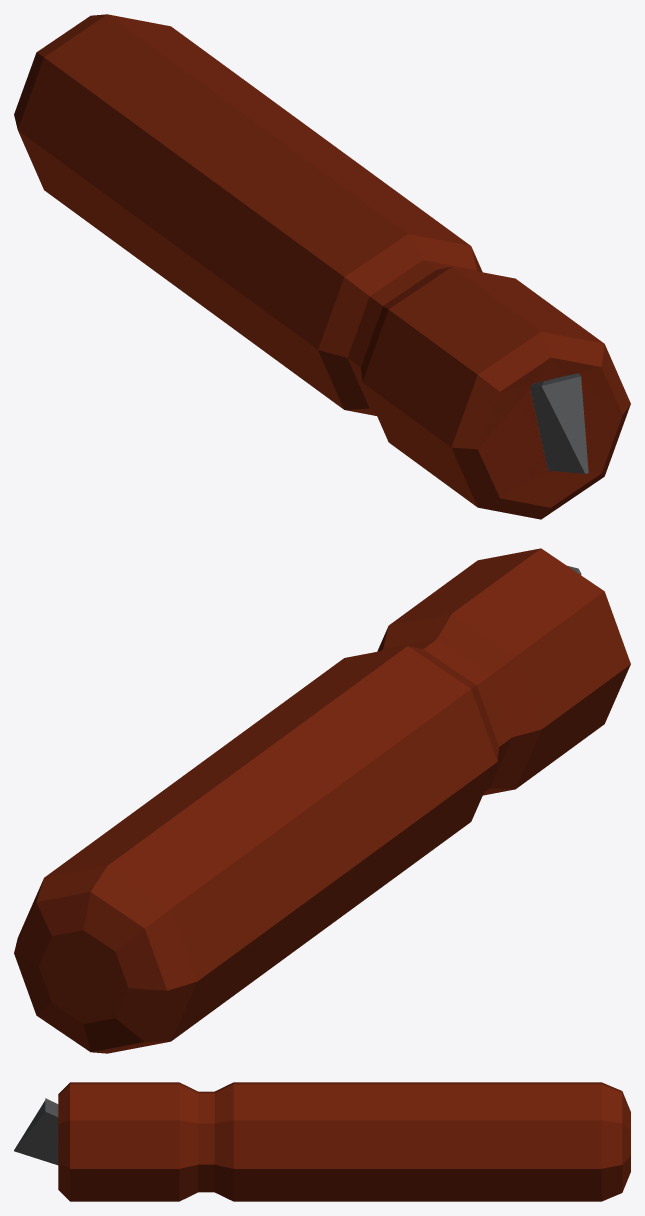
Rendered from HozMangoRoto.fbx.
3 views of the same model, one above another, from view 1: azimuth 30°, elevation 25°; view 2: azimuth 150°, elevation 25°; view 3: azimuth 270°, elevation 25° (orthographic). The views are drawn at different scales.
Visible parts, largest first — view 1: HozMangoRoto; view 2: HozMangoRoto; view 3: HozMangoRoto.
Part boxes in pixels (x1,y1,x2,y2): HozMangoRoto: (14, 14, 630, 519); HozMangoRoto: (14, 548, 630, 1053); HozMangoRoto: (14, 1082, 630, 1201).
Bounding box in the file's own units: 4.63 × 4.63 × 22.48.
